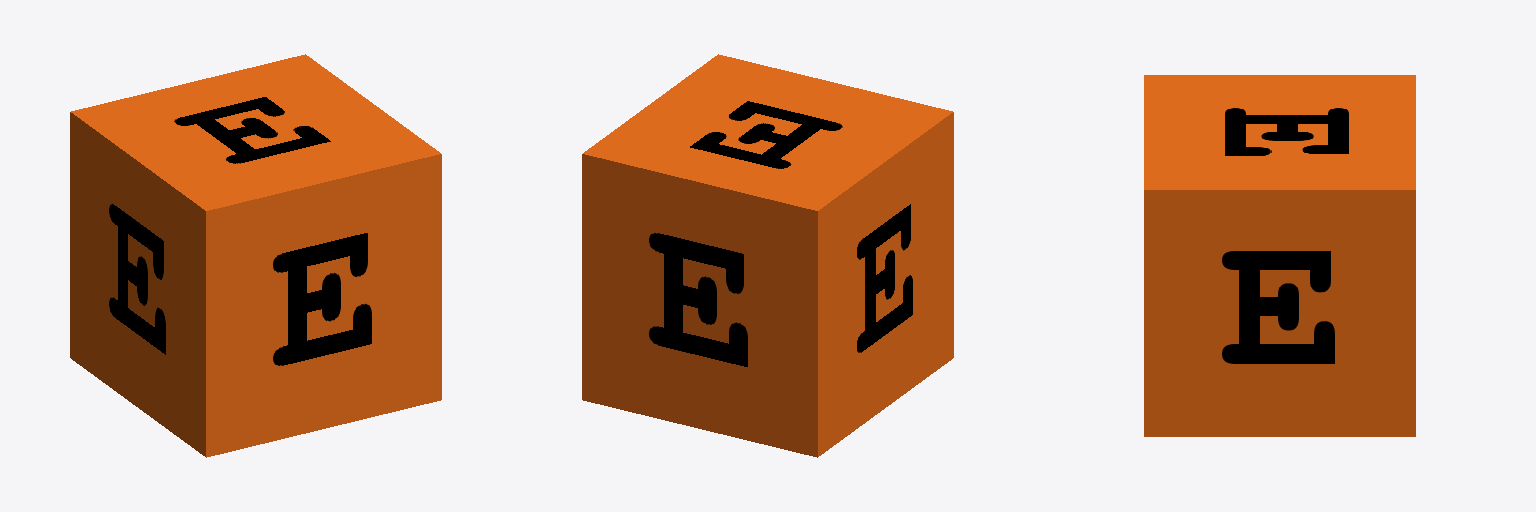
3 renders of one model, left to right at view 1: azimuth 30°, elevation 25°; view 2: azimuth 150°, elevation 25°; view 3: azimuth 270°, elevation 25°, orthographic.
Parts seen in each view (by area): view 1: cube; view 2: cube; view 3: cube.
Part boxes in pixels (x1,y1,x2,y2): cube: (70,54,441,457); cube: (582,54,953,457); cube: (1144,75,1415,436).
Bounding box in the file's own units: 1 × 1 × 1.
1 materials, 1 textured.